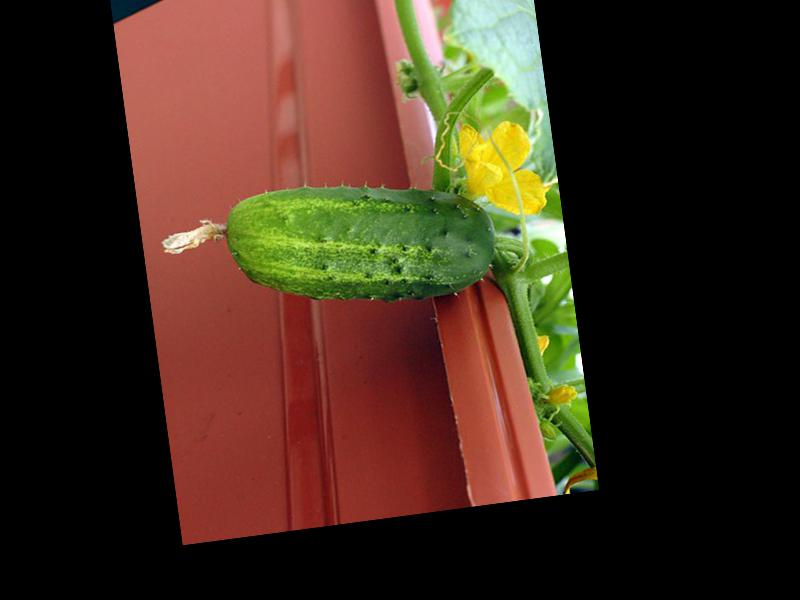Cucumber: (155, 161, 502, 331)
